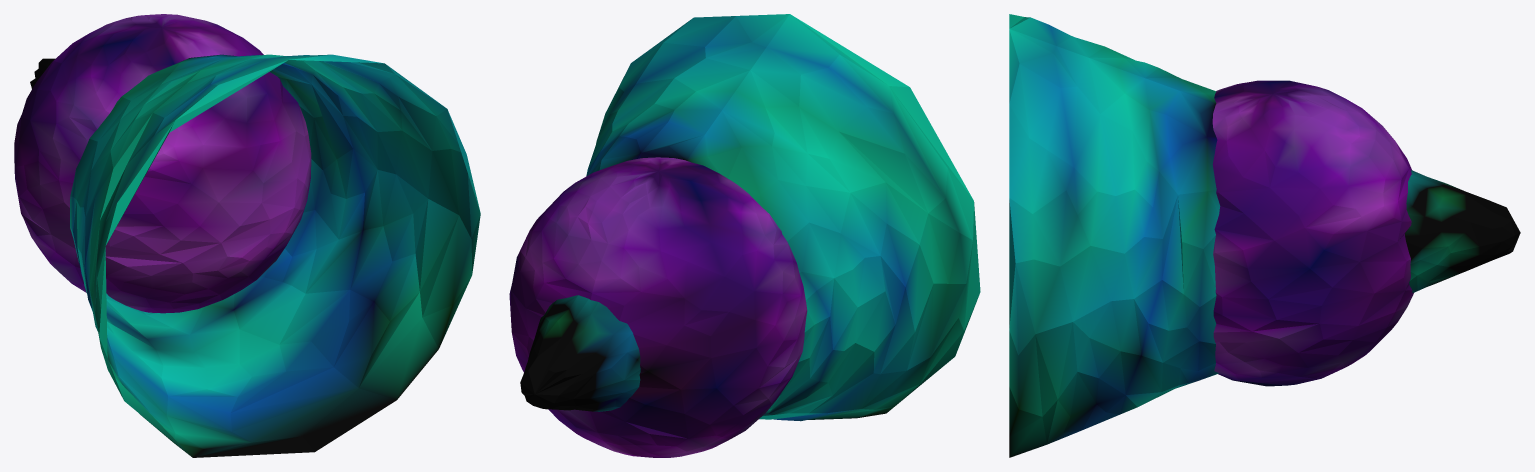
3 views of the same model, side by side, from view 1: azimuth 30°, elevation 25°; view 2: azimuth 150°, elevation 25°; view 3: azimuth 270°, elevation 25° (orthographic). The views are drawn at different scales.
Parts seen in each view (by area): view 1: part30, part5, part8, part4, part1, part7, part2, part3; view 2: part30, part1, part3, part2, part5, part6, part4, part8; view 3: part30, part3, part4, part6, part7, part1, part5.
Boxes of the visible parts, x1,y1,x2,y2 form: part30: [30, 54, 480, 457]; part5: [38, 28, 263, 226]; part8: [33, 209, 249, 313]; part4: [162, 27, 311, 226]; part1: [14, 17, 161, 208]; part7: [220, 180, 310, 300]; part2: [15, 181, 58, 271]; part3: [129, 14, 257, 48]; part30: [520, 14, 980, 421]; part1: [590, 171, 797, 389]; part3: [509, 164, 658, 349]; part2: [590, 339, 796, 457]; part5: [659, 162, 807, 338]; part6: [512, 333, 630, 455]; part4: [595, 157, 690, 171]; part8: [761, 320, 805, 416]; part30: [1009, 14, 1520, 457]; part3: [1263, 93, 1411, 305]; part4: [1212, 94, 1309, 299]; part6: [1252, 269, 1413, 385]; part7: [1213, 297, 1286, 386]; part1: [1258, 80, 1411, 172]; part5: [1214, 80, 1272, 102].
Size of the model in its own units: 18.21 by 18.18 by 20.66.
